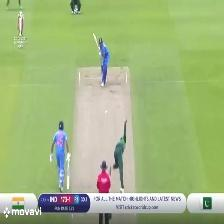ball: (103, 109, 109, 115)
batsman: (92, 31, 114, 89)
